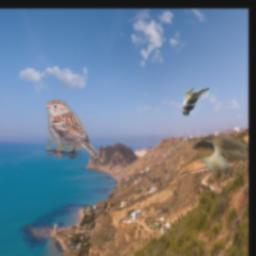Sparrow: (45, 100, 97, 159)
Swallow: (193, 135, 249, 174), (183, 88, 217, 117)
